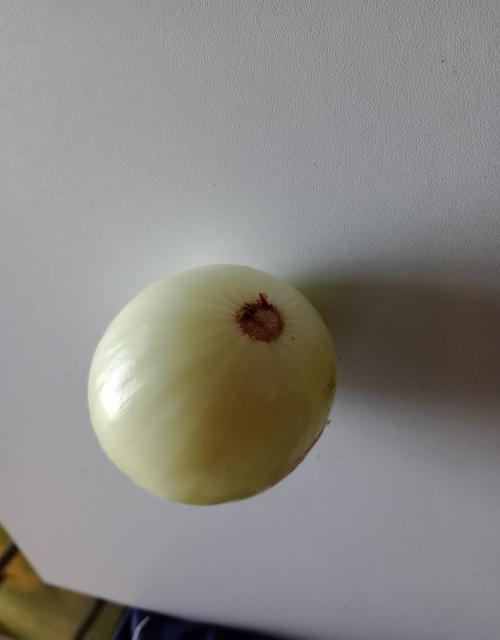Cebolla-: (52, 229, 384, 575)
